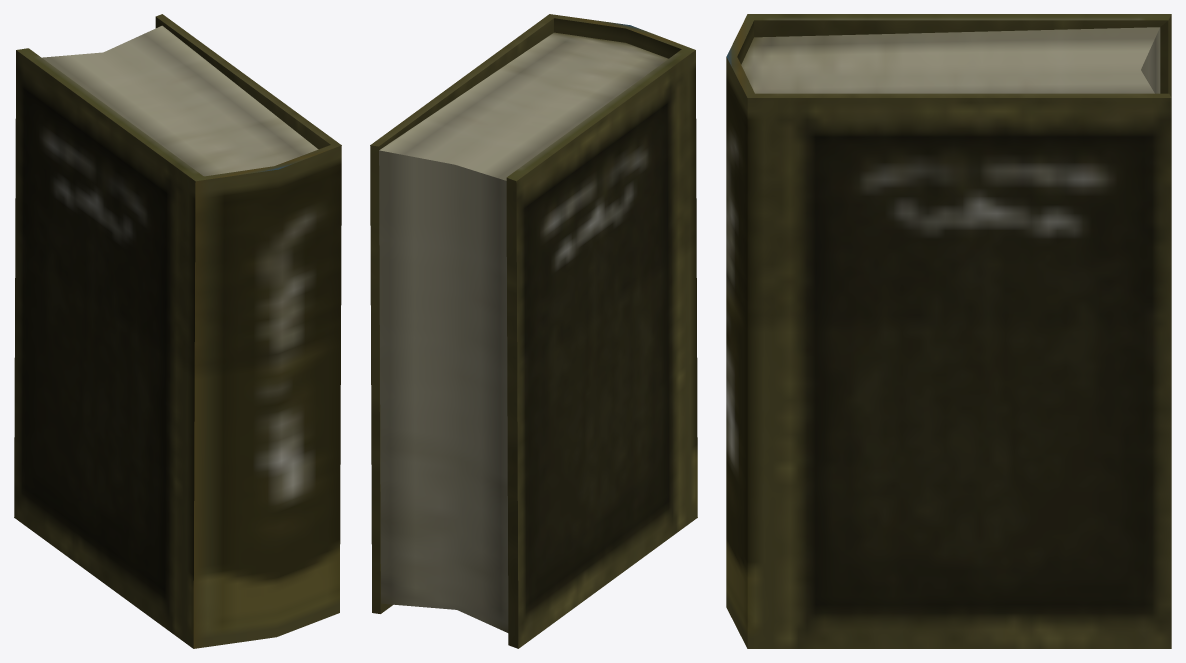
The model's file is M_Home_Garden_Book_01.fbx.
3 views of the same model, side by side, from view 1: azimuth 30°, elevation 25°; view 2: azimuth 150°, elevation 25°; view 3: azimuth 270°, elevation 25° (orthographic). The views are drawn at different scales.
Parts seen in each view (by area): view 1: M_Home_Garden_Book_01; view 2: M_Home_Garden_Book_01; view 3: M_Home_Garden_Book_01.
Boxes of the visible parts, bbox=[...] form: M_Home_Garden_Book_01: bbox=[14, 14, 341, 648]; M_Home_Garden_Book_01: bbox=[370, 14, 697, 648]; M_Home_Garden_Book_01: bbox=[726, 14, 1171, 648].
Bounding box in the file's own units: 20.22 × 60.9 × 44.46.
